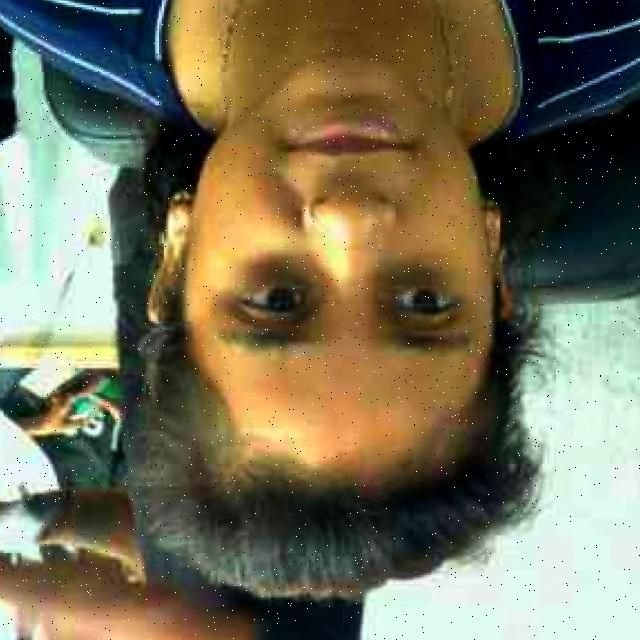puffy_eyes: (378, 258, 451, 295), (253, 255, 316, 284)
